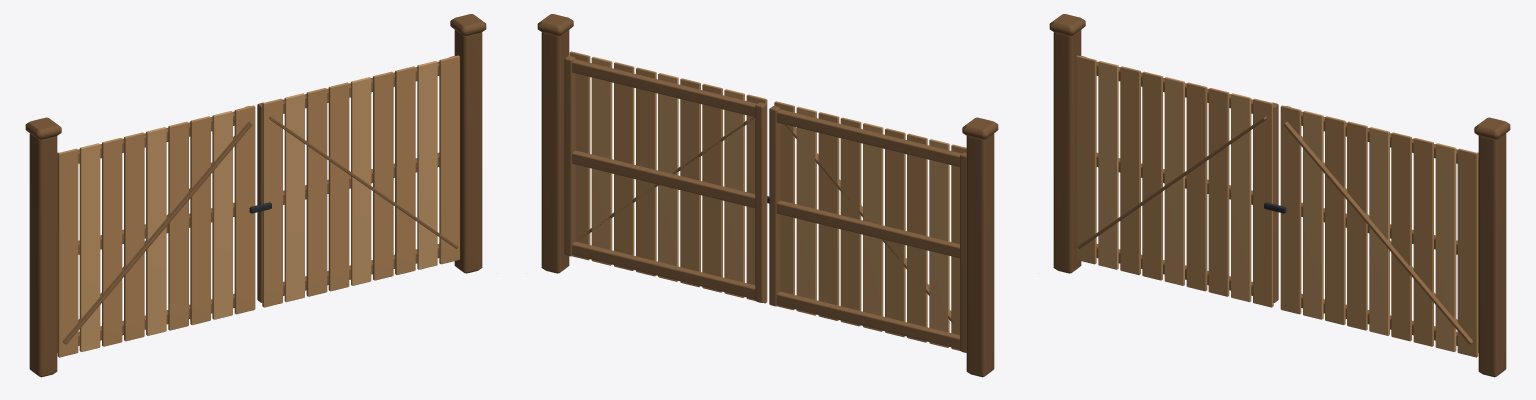
The model's file is portail_bois.glb.
3 renders of one model, left to right at view 1: azimuth 30°, elevation 25°; view 2: azimuth 150°, elevation 25°; view 3: azimuth 330°, elevation 25°, orthographic.
Visible parts, largest first — view 1: battant_d_planche_cl.002, battant_g_planche_cl.002, pieces_poteau_bois.002, battant_d_planche_cl_claire.002, battant_g_planche_cl_claire.002, battant_d_planche_cl_sombre.002, battant_g_planche_cl_sombre.002; view 2: battant_d_planche_cl.002, battant_g_planche_cl.002, pieces_poteau_bois.002, battant_d_planche_cl_sombre.002, battant_g_planche_cl_sombre.002, battant_d_planche_cl_claire.002, battant_g_planche_cl_claire.002; view 3: battant_g_planche_cl.002, battant_d_planche_cl.002, pieces_poteau_bois.002, battant_g_planche_cl_claire.002, battant_d_planche_cl_claire.002, battant_g_planche_cl_sombre.002, battant_d_planche_cl_sombre.002.
Boxes of the visible parts, <box> form: battant_d_planche_cl.002: <box>262,55,459,307</box>; battant_g_planche_cl.002: <box>57,105,255,357</box>; pieces_poteau_bois.002: <box>25,14,486,377</box>; battant_d_planche_cl_claire.002: <box>284,61,437,302</box>; battant_g_planche_cl_claire.002: <box>79,111,232,351</box>; battant_d_planche_cl_sombre.002: <box>257,56,458,302</box>; battant_g_planche_cl_sombre.002: <box>57,106,252,352</box>; battant_d_planche_cl.002: <box>569,51,767,303</box>; battant_g_planche_cl.002: <box>774,101,966,350</box>; pieces_poteau_bois.002: <box>537,14,998,377</box>; battant_d_planche_cl_sombre.002: <box>564,56,766,302</box>; battant_g_planche_cl_sombre.002: <box>769,106,966,352</box>; battant_d_planche_cl_claire.002: <box>591,56,744,297</box>; battant_g_planche_cl_claire.002: <box>796,106,949,347</box>; battant_g_planche_cl.002: <box>1076,55,1273,307</box>; battant_d_planche_cl.002: <box>1280,105,1478,357</box>; pieces_poteau_bois.002: <box>1049,14,1510,377</box>; battant_g_planche_cl_claire.002: <box>1098,61,1251,302</box>; battant_d_planche_cl_claire.002: <box>1303,111,1456,351</box>; battant_g_planche_cl_sombre.002: <box>1077,56,1278,302</box>; battant_d_planche_cl_sombre.002: <box>1283,106,1478,352</box>.
Bounding box in the file's own units: 3.3 × 1.71 × 0.3.
